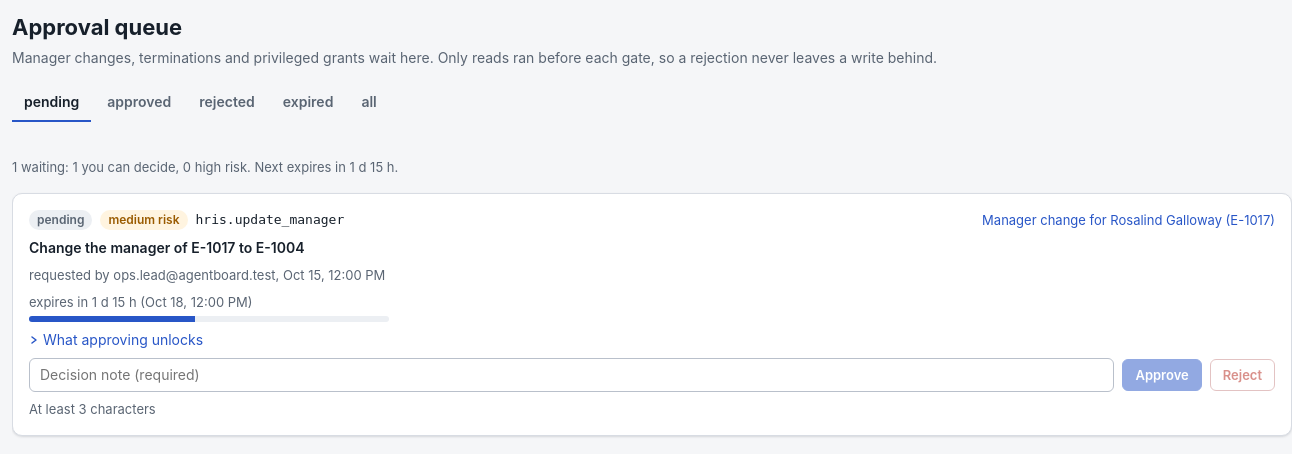
Test case: Approvals decisions › refreshes the list and explains it when someone else decided first, instead of the raw refusal
In the field labelled "Decision note": (572, 375) [29,358,1114,392], type "looks right"
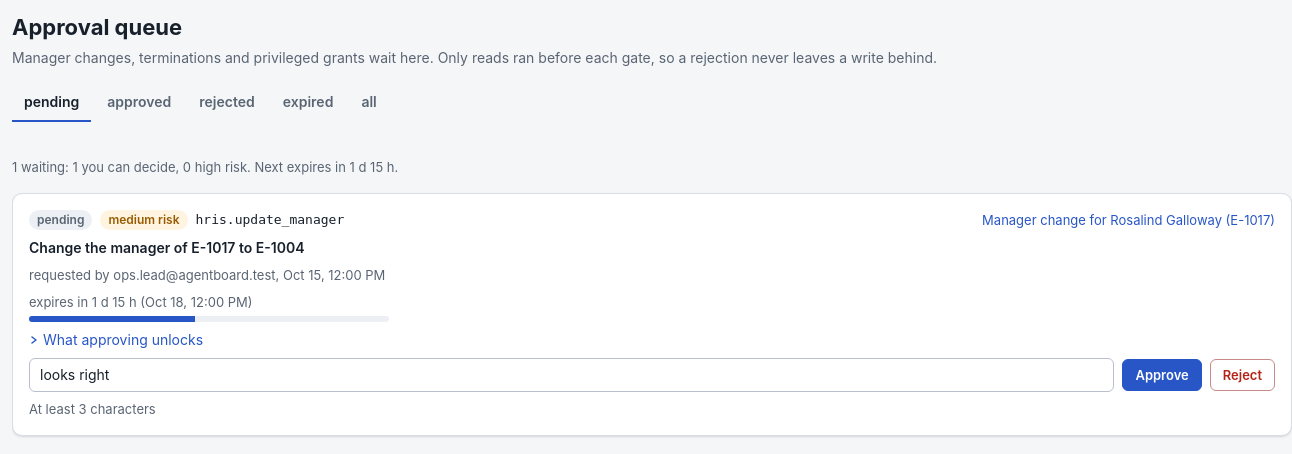
Click the button "Approve": (1162, 375) [1122,359,1202,391]
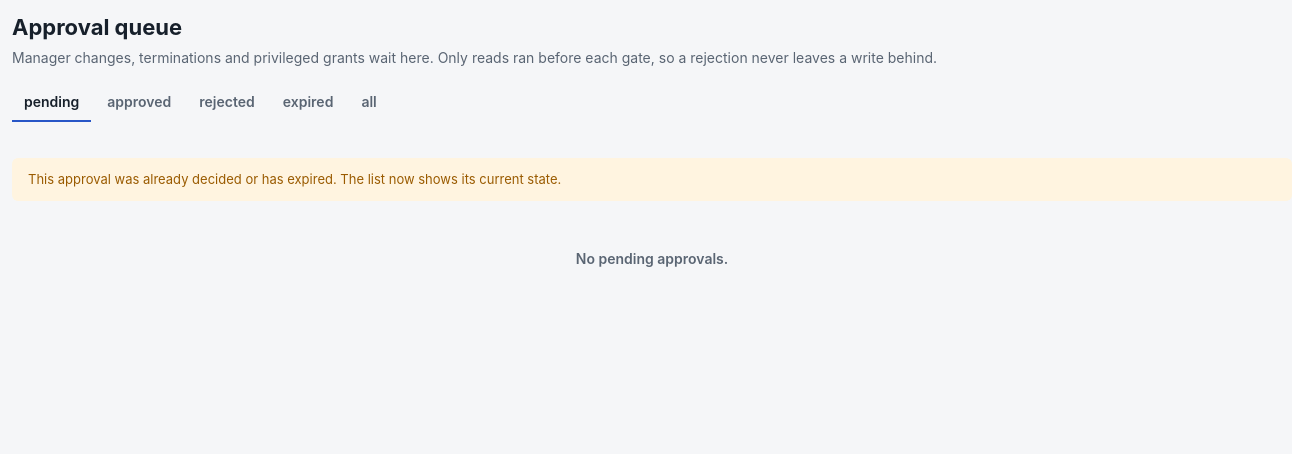
Check: the message with test id "decision-status" shows "This approval was already decided or has expired. The list now shows its current state.", box [28,172,561,188]
Check: the text "No pending approvals." is shown, box [576,250,728,267]
